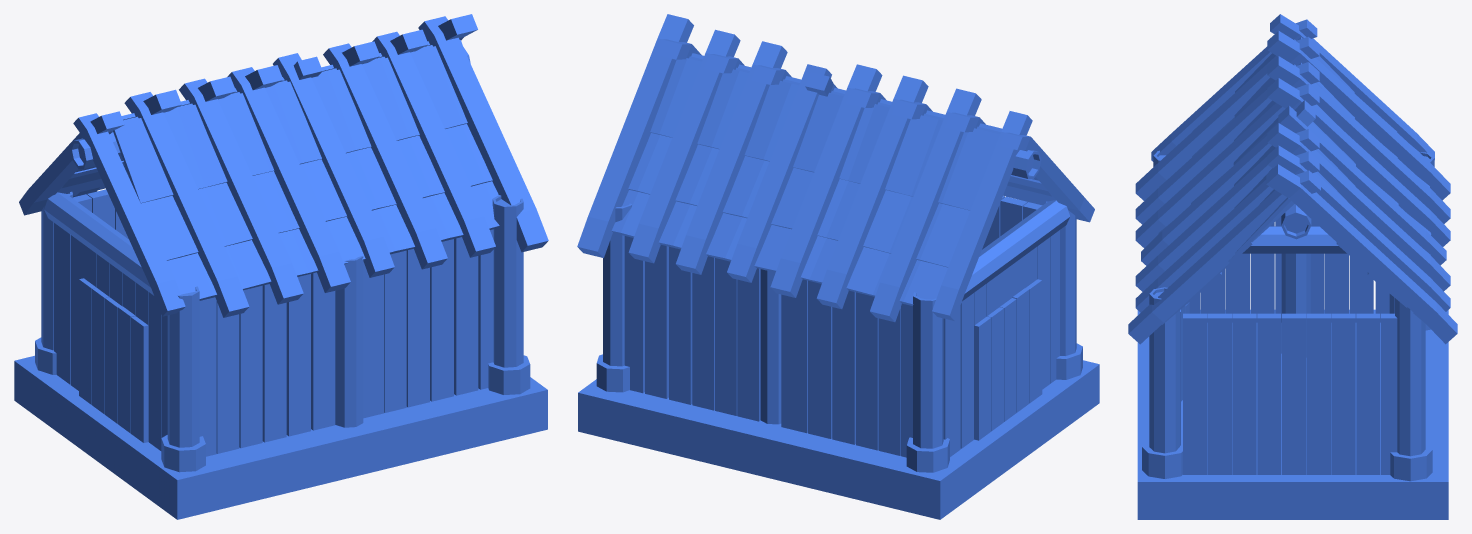
File: Barn_Variant3.fbx
The picture shows the model from 3 angles, left to right: view 1: azimuth 30°, elevation 25°; view 2: azimuth 150°, elevation 25°; view 3: azimuth 270°, elevation 25°; orthographic projection. The views are drawn at different scales.
Parts seen in each view (by area): view 1: Barn_Variant3; view 2: Barn_Variant3; view 3: Barn_Variant3.
Boxes of the visible parts, <box> form: Barn_Variant3: <box>14,14,548,519</box>; Barn_Variant3: <box>577,14,1099,519</box>; Barn_Variant3: <box>1128,14,1457,519</box>.
Bounding box in the file's own units: 382 × 342 × 296.
